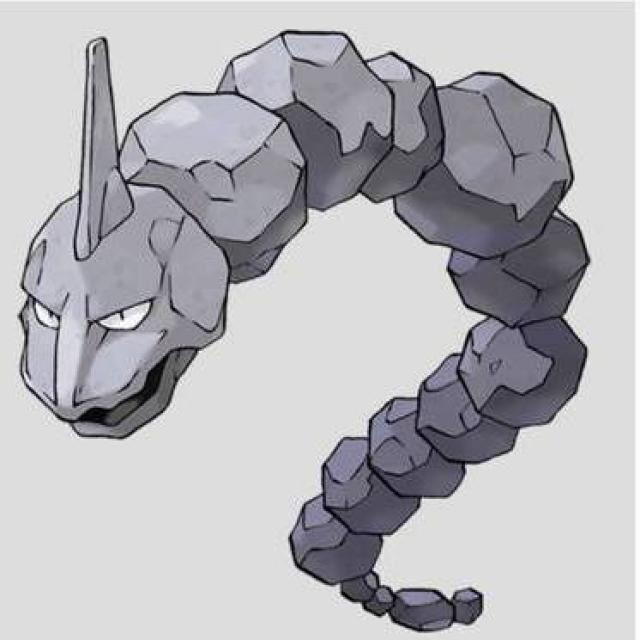Onix: (18, 40, 585, 432)
